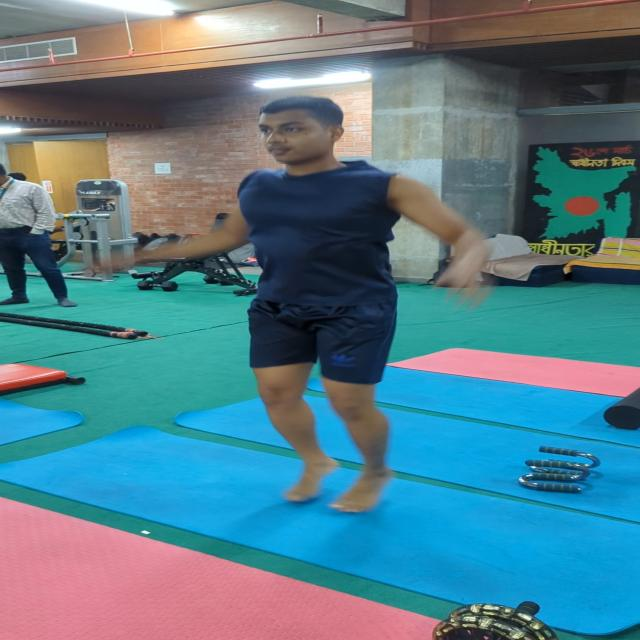Normal_JumpingJacks: (168, 89, 517, 533)
